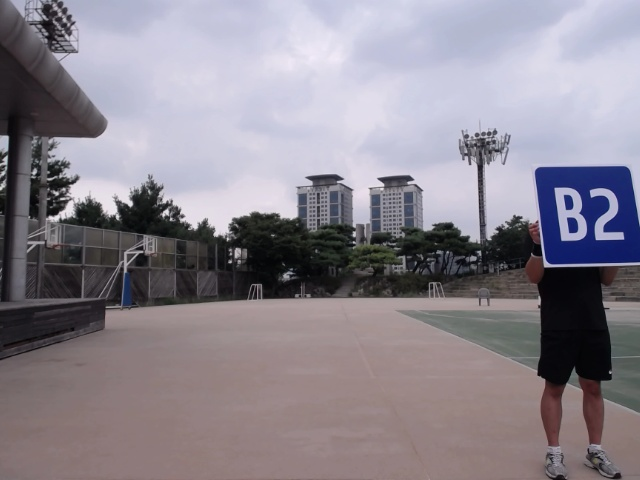delivery_b2: (535, 164, 639, 267)
